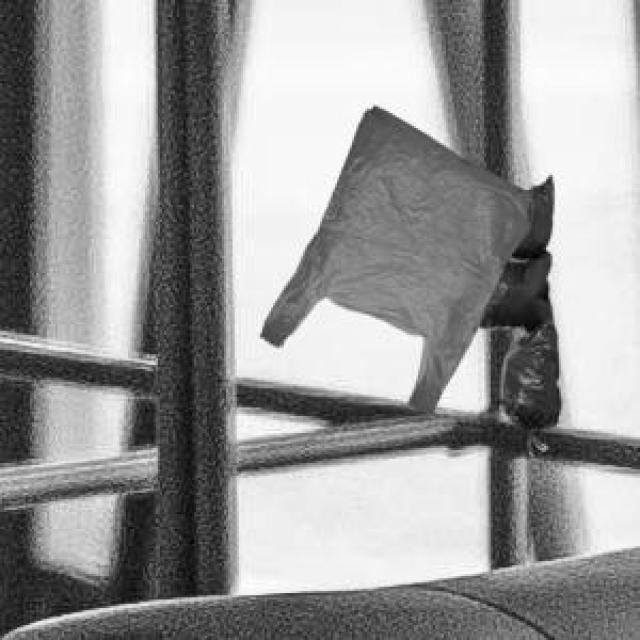miscellaneous trash: (476, 173, 557, 427)
